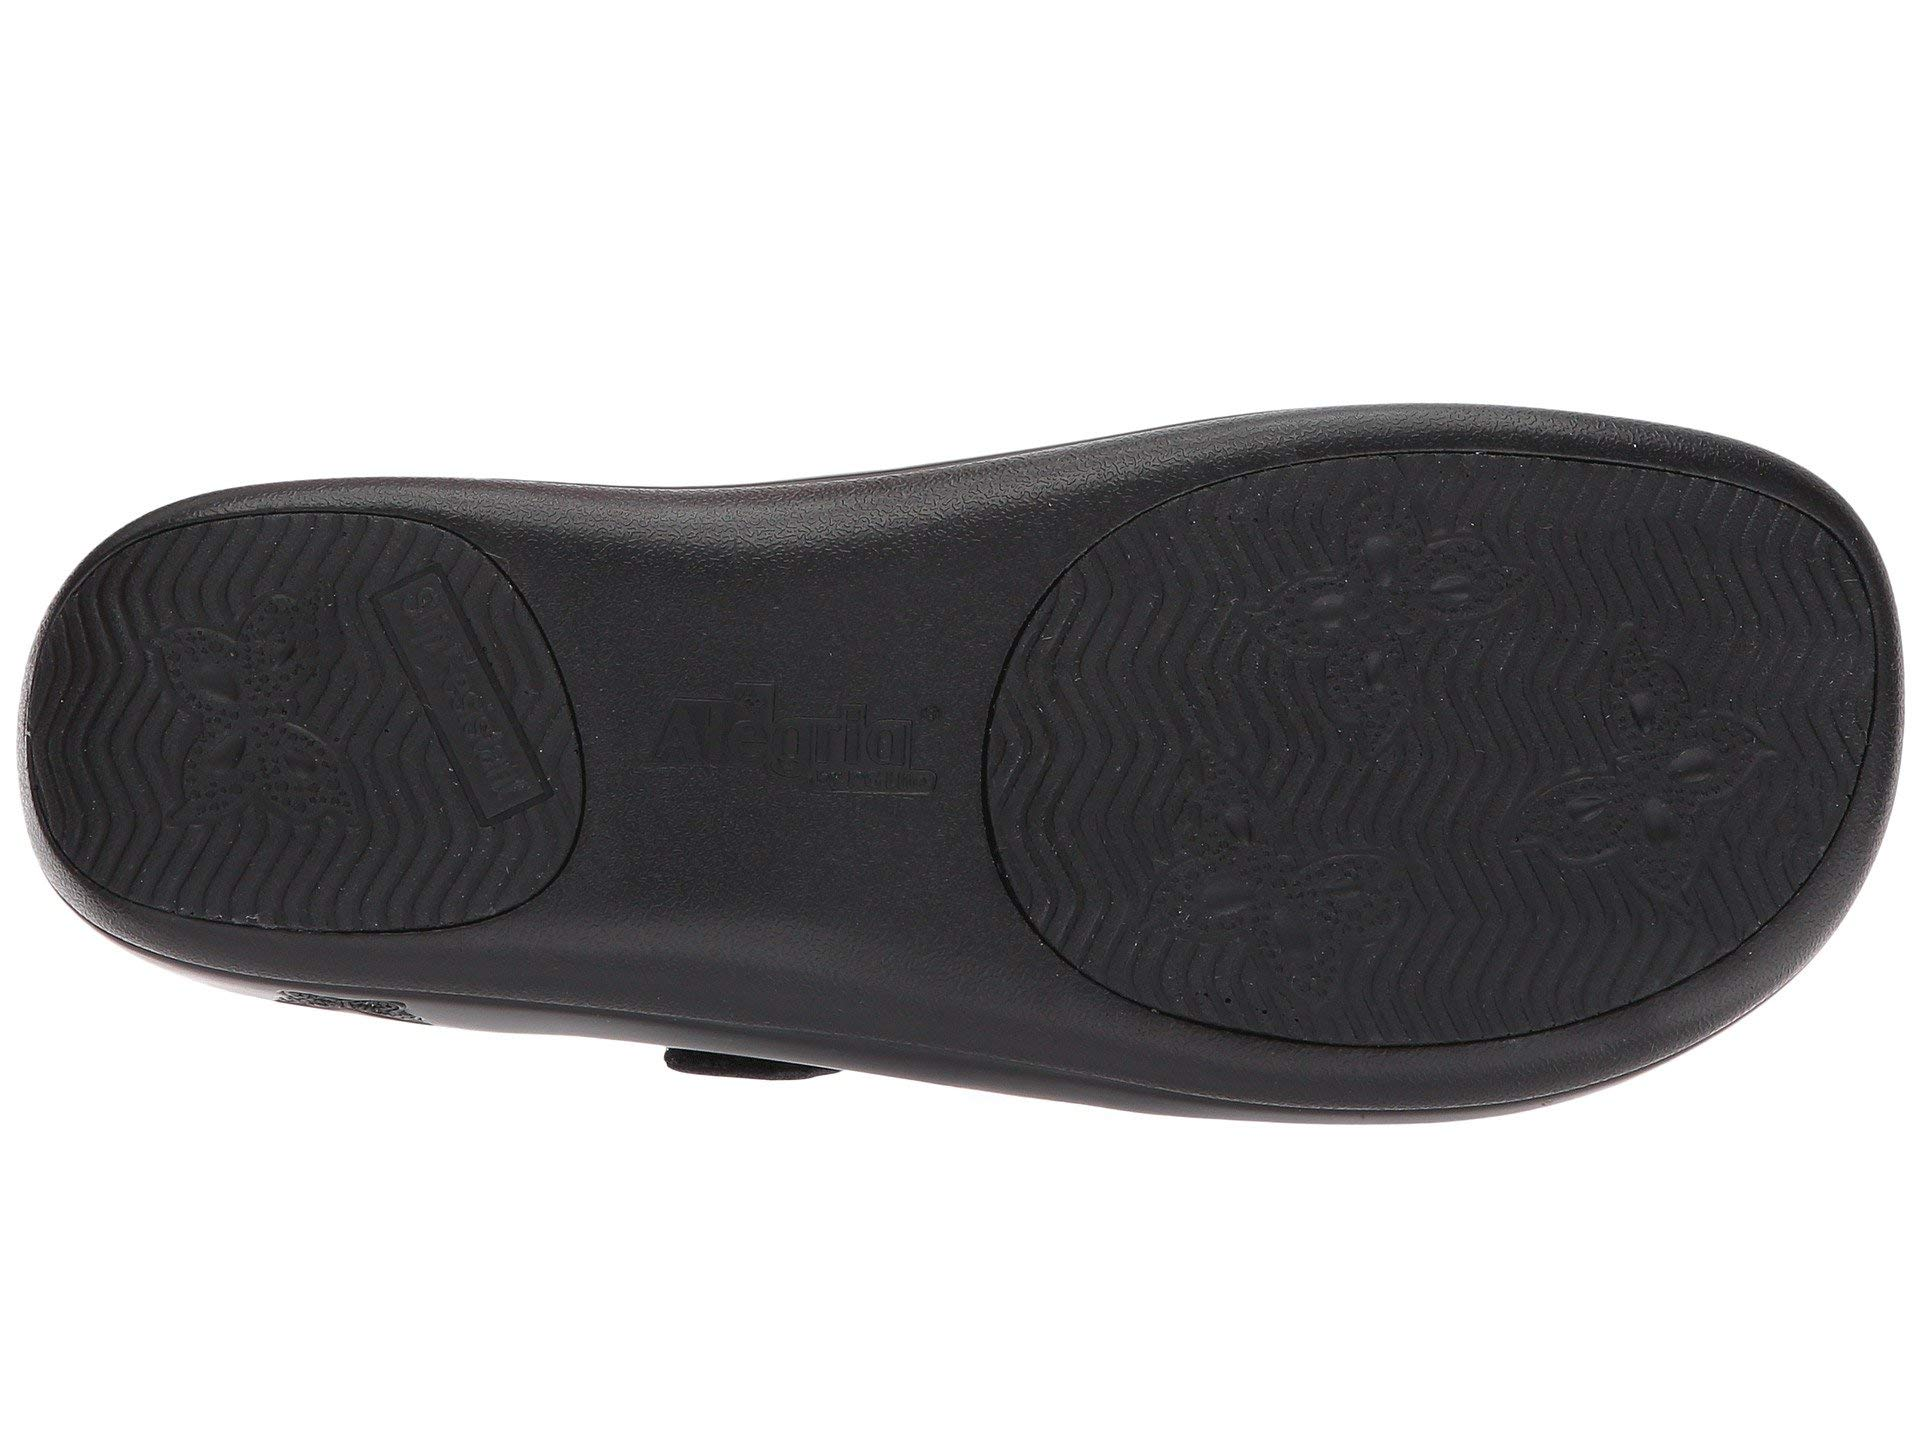bowtie: (1166, 399, 1745, 1091), (138, 561, 405, 902)
chevron: (1166, 399, 1745, 1091), (138, 561, 405, 902)
text: (605, 601, 977, 914)
